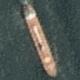ship: (0, 0, 4, 40)
